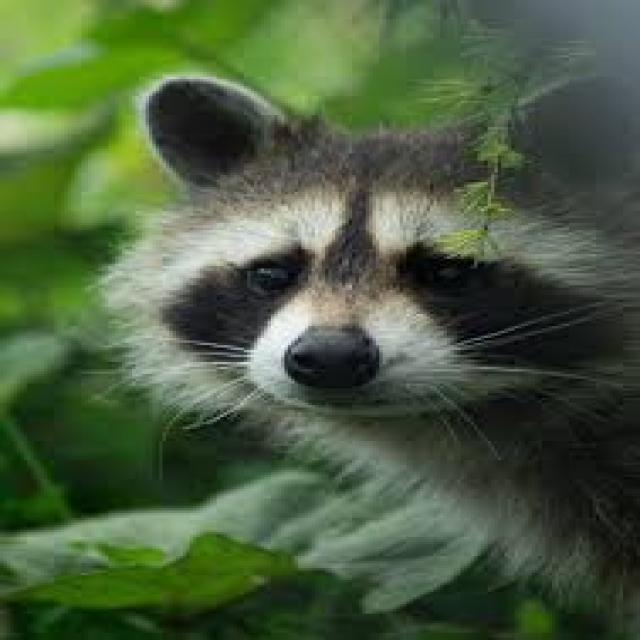Raccoon: (103, 67, 640, 595)
